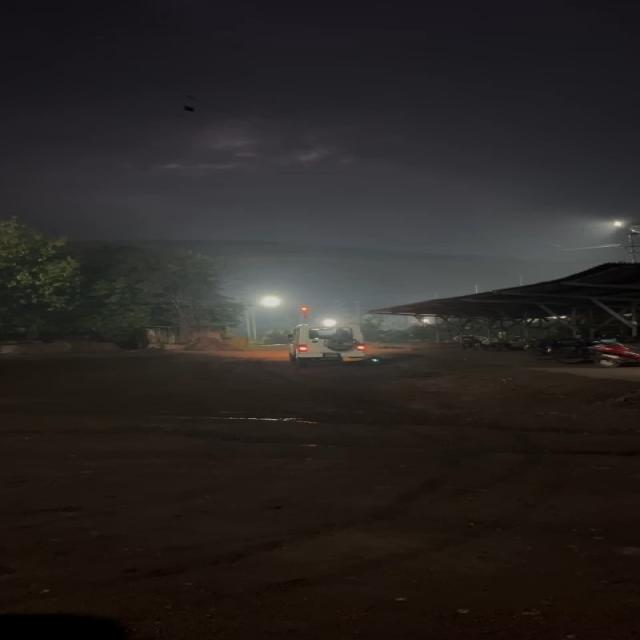light_vehicle: (289, 323, 372, 364)
